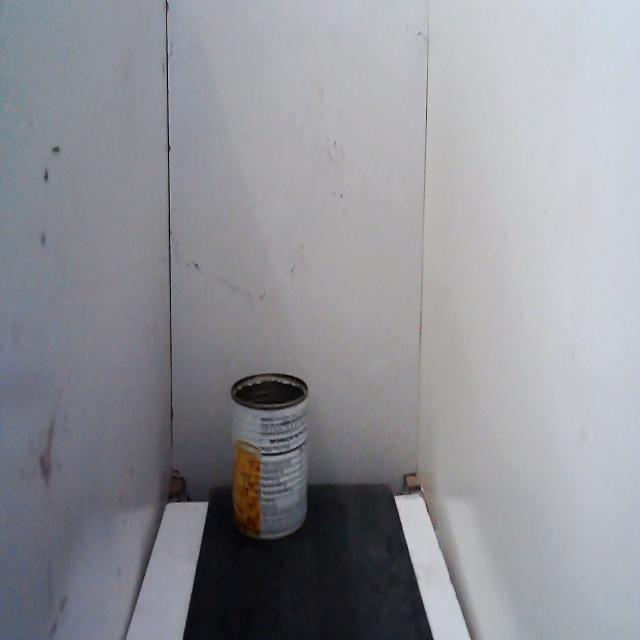metal: (225, 363, 317, 554)
